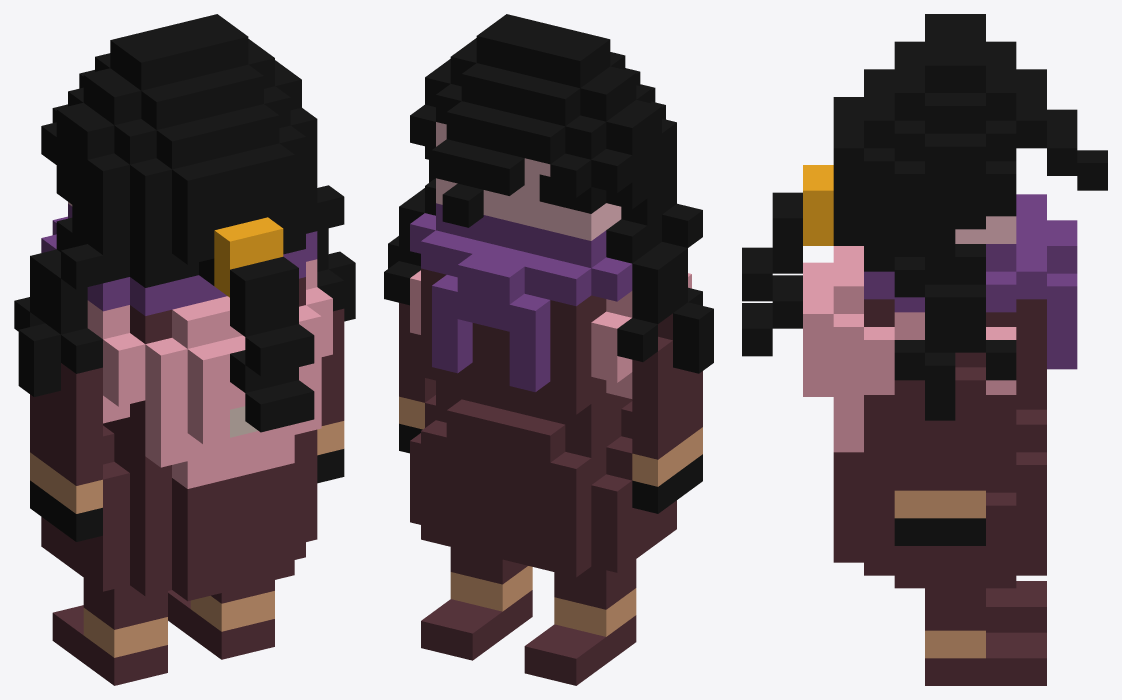
File: player_snowwomen.obj
3 views of the same model, side by side, from view 1: azimuth 30°, elevation 25°; view 2: azimuth 150°, elevation 25°; view 3: azimuth 270°, elevation 25° (orthographic). The views are drawn at different scales.
Bounding box in the file's own units: 1.2 × 2.2 × 1.2.
Materials: 1 (1 with a texture image).
